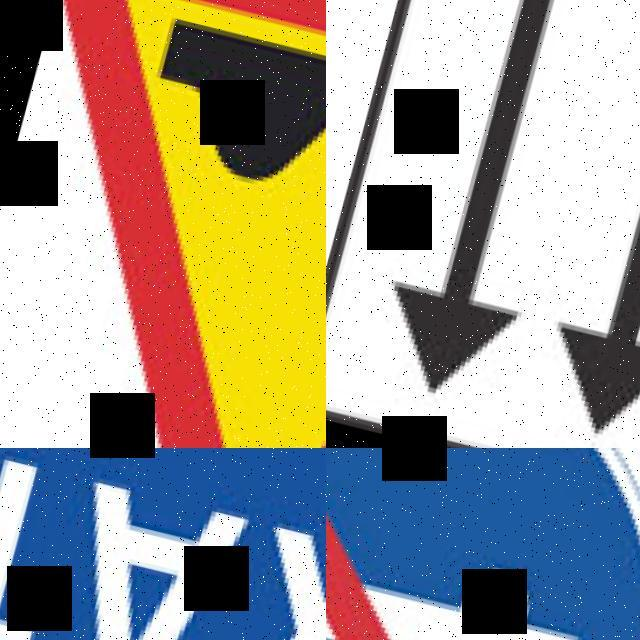123: (0, 448, 326, 640)
66: (326, 0, 640, 448)
End of lane reserved for public transport: (326, 448, 640, 640)
Uneven road: (0, 0, 326, 448)
